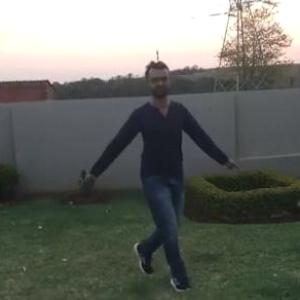land: (102, 73, 215, 240)
